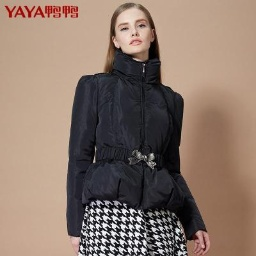face: (106, 2, 162, 70)
